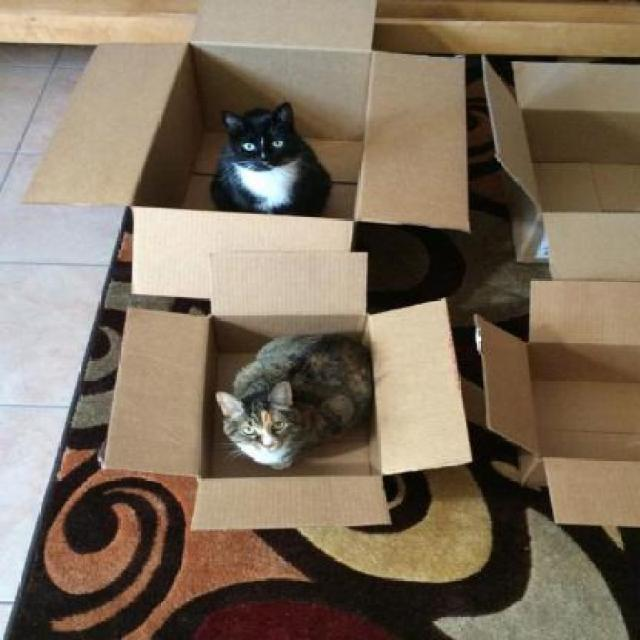box: (56, 7, 488, 300), (127, 260, 425, 514), (477, 276, 640, 516), (482, 55, 640, 283)
